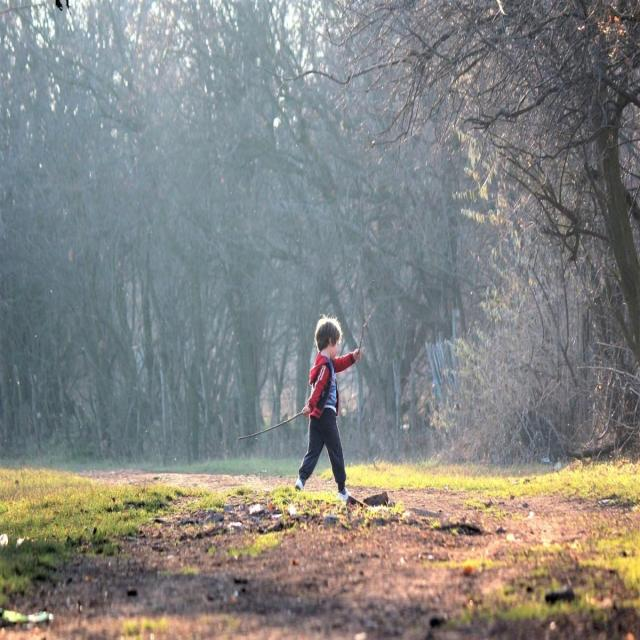Person: (297, 315, 363, 498)
